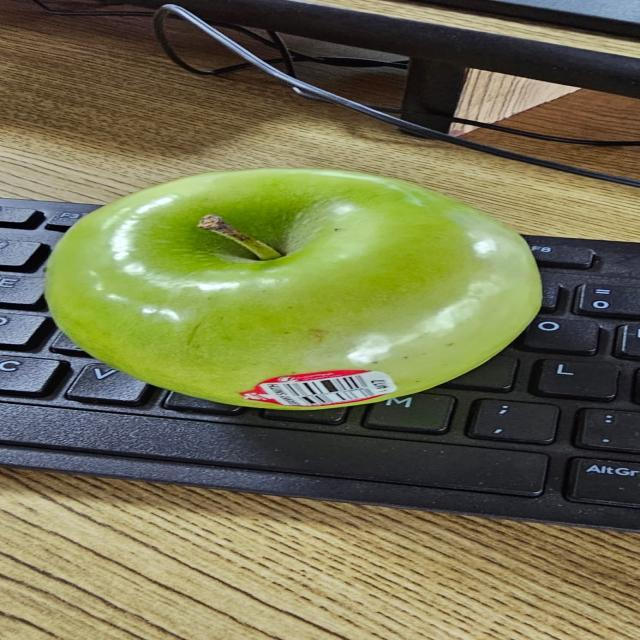Apel Granny Smith: (39, 164, 564, 413)
